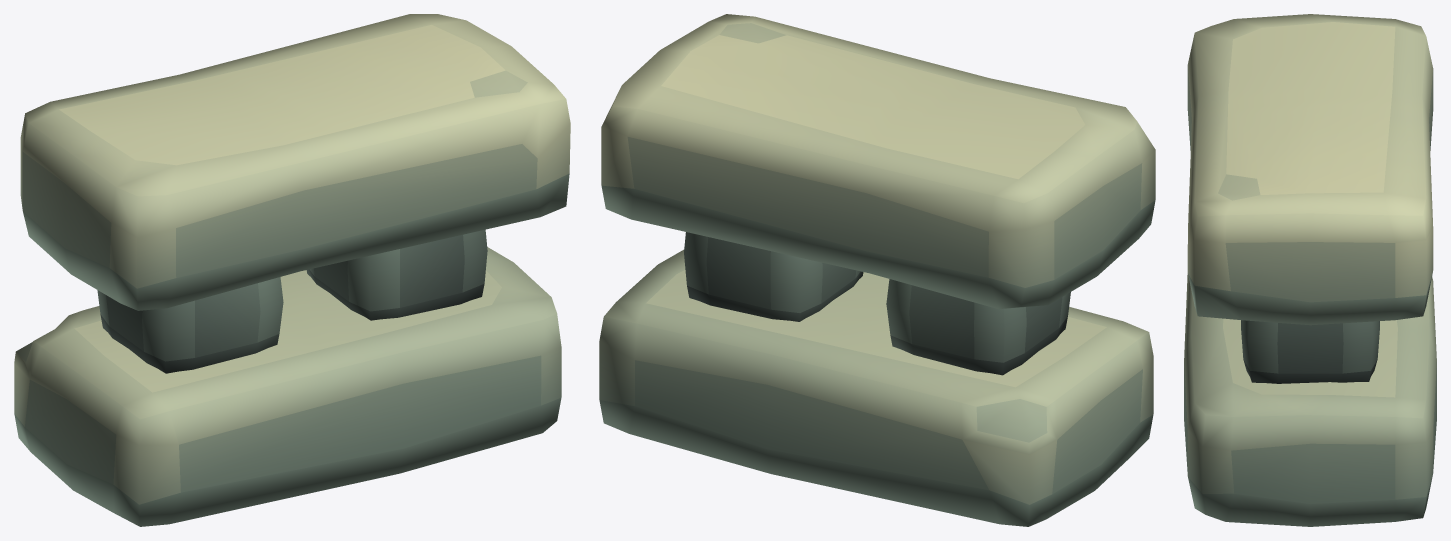
File: rail1_1_stone1_LOD_group.fbx
The picture shows the model from 3 angles, left to right: view 1: azimuth 30°, elevation 25°; view 2: azimuth 150°, elevation 25°; view 3: azimuth 270°, elevation 25°; orthographic projection. The views are drawn at different scales.
Visible parts, largest first — view 1: rail1_1_stone1_LOD0; view 2: rail1_1_stone1_LOD0; view 3: rail1_1_stone1_LOD0.
Boxes of the visible parts, x1=… form: rail1_1_stone1_LOD0: x1=14, y1=14, x2=570, y2=526; rail1_1_stone1_LOD0: x1=599, y1=14, x2=1155, y2=526; rail1_1_stone1_LOD0: x1=1184, y1=14, x2=1436, y2=526.
Size of what is drawn, in the model's own units: 110 by 81.78 by 57.03.
1 material, 1 textured.
